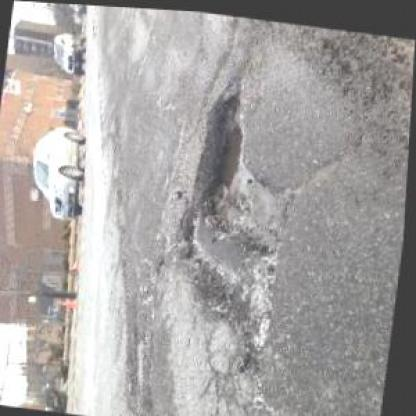pothole: (167, 85, 302, 345), (127, 323, 164, 395)
